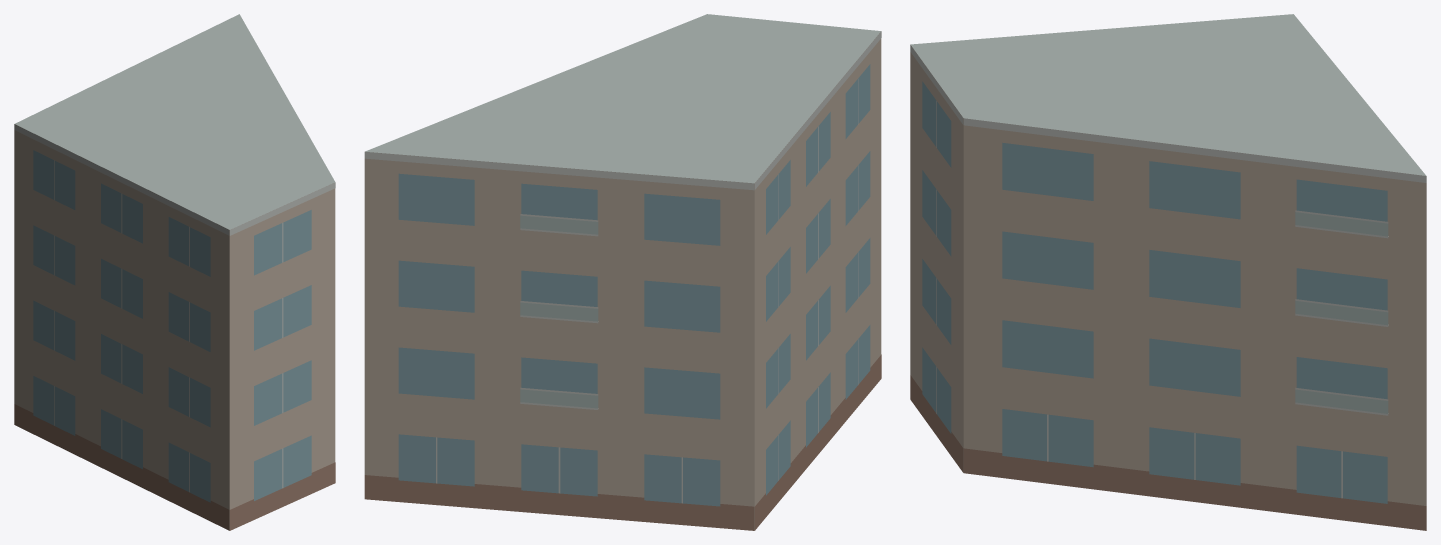
File: residential-ea62c366-ceed-467a-9510-acda51d349df.glb
3 renders of one model, left to right at view 1: azimuth 30°, elevation 25°; view 2: azimuth 150°, elevation 25°; view 3: azimuth 270°, elevation 25°, orthographic. The views are drawn at different scales.
Parts seen in each view (by area): view 1: residential-ea62c366-ceed-467a-9510-acda51d349df.tmp; view 2: residential-ea62c366-ceed-467a-9510-acda51d349df.tmp; view 3: residential-ea62c366-ceed-467a-9510-acda51d349df.tmp.
Part boxes in pixels (x1=…): residential-ea62c366-ceed-467a-9510-acda51d349df.tmp: x1=14, y1=14, x2=335, y2=530; residential-ea62c366-ceed-467a-9510-acda51d349df.tmp: x1=364, y1=14, x2=881, y2=530; residential-ea62c366-ceed-467a-9510-acda51d349df.tmp: x1=910, y1=14, x2=1426, y2=530.
Size of the model in its own units: 11.95 by 12.2 by 16.1.
